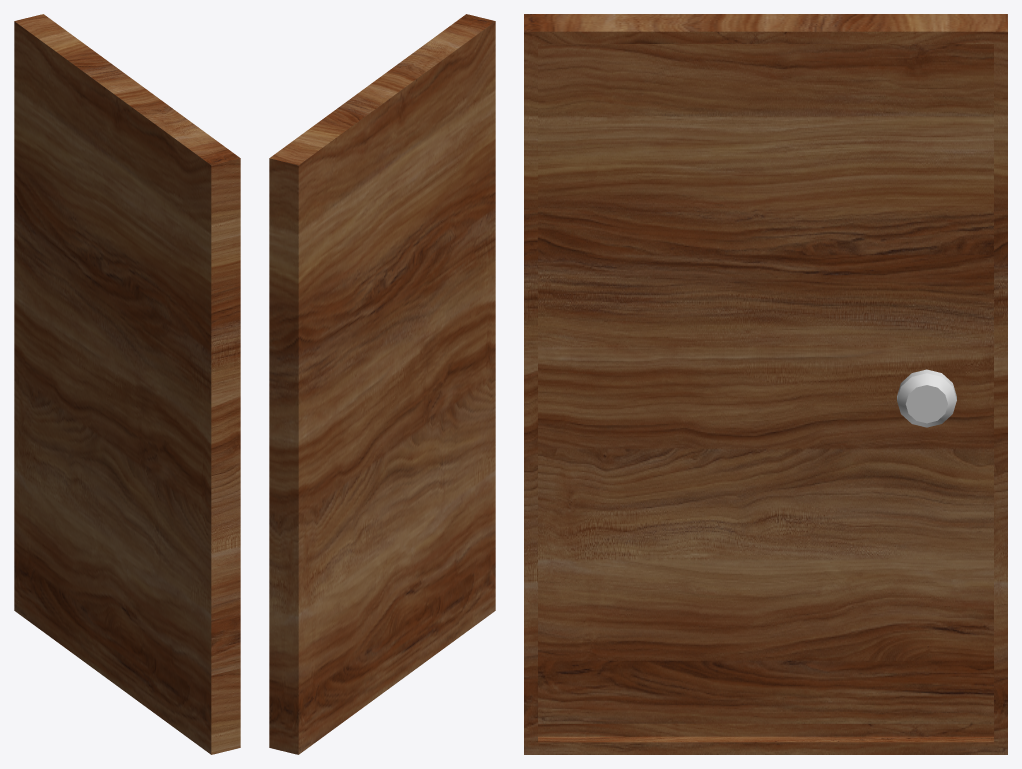
Rendered from Door.FBX.
3 views of the same model, side by side, from view 1: azimuth 30°, elevation 25°; view 2: azimuth 150°, elevation 25°; view 3: azimuth 270°, elevation 25° (orthographic). The views are drawn at different scales.
Parts seen in each view (by area): view 1: Box001; view 2: Box001; view 3: Box001, ChamferCyl001.
Boxes of the visible parts, x1=… form: Box001: x1=14, y1=14, x2=240, y2=754; Box001: x1=269, y1=14, x2=495, y2=754; Box001: x1=524, y1=14, x2=1007, y2=754; ChamferCyl001: x1=897, y1=369, x2=956, y2=427.
Bounding box in the file's own units: 4.34 × 57.75 × 35.
